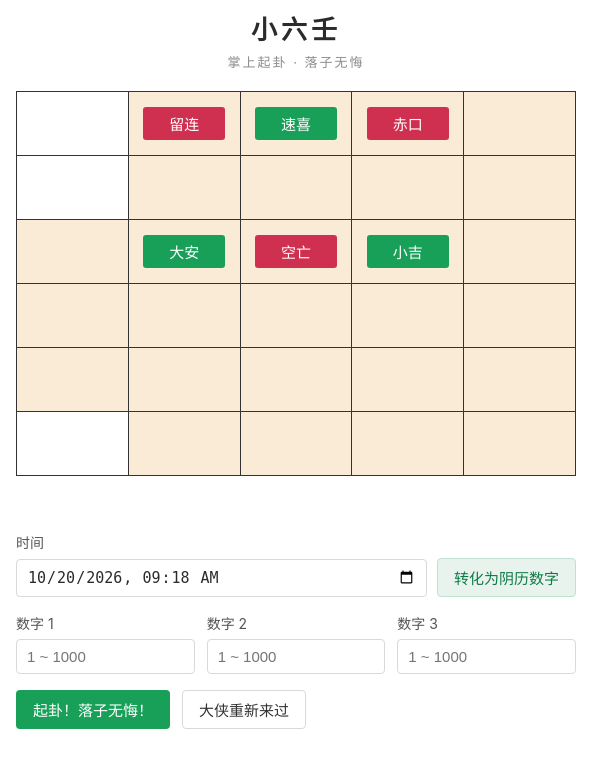
Test: XiaoLiuRen › 数字越界时给出提示且不起卦
Type "1" into the number field labelled "数字 1". click: (105, 656)
box: [16,639,195,674]
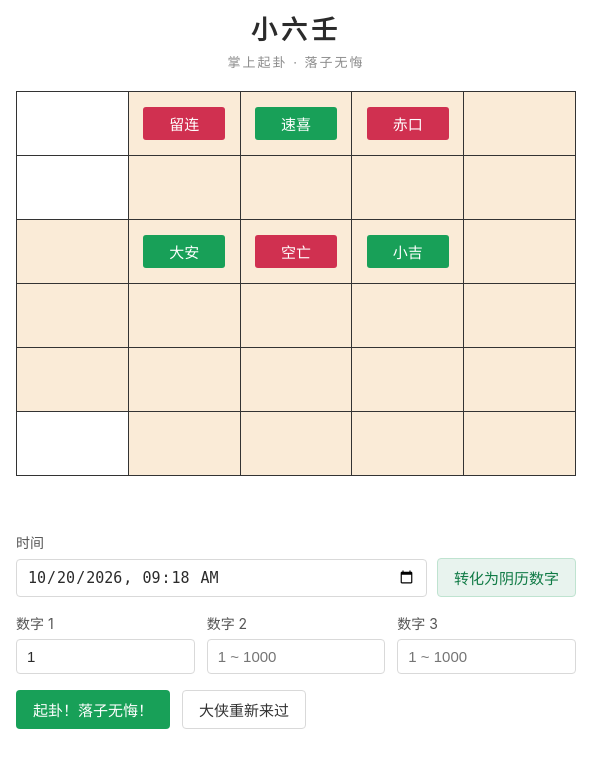
Type "2" into the number field labelled "数字 2". click: (296, 656)
box: [207,639,385,674]
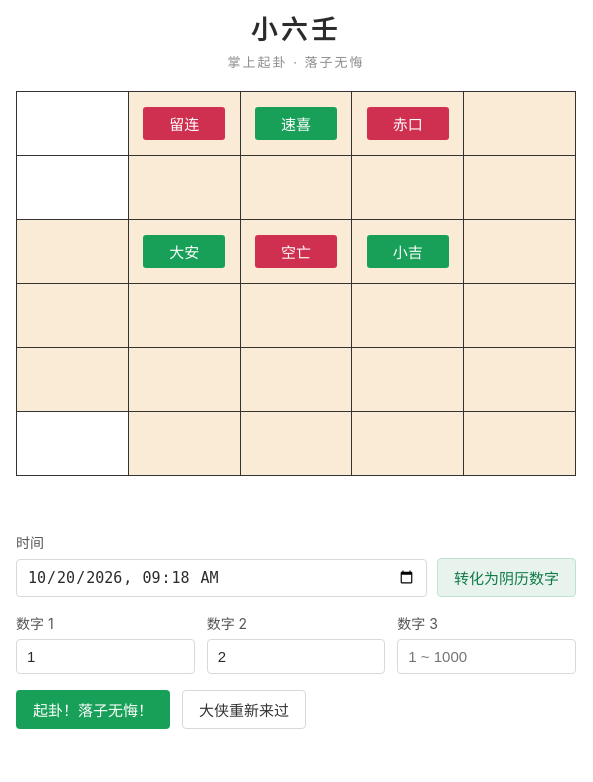
Type "1001" into the number field labelled "数字 3". click: (487, 656)
box: [397,639,576,674]
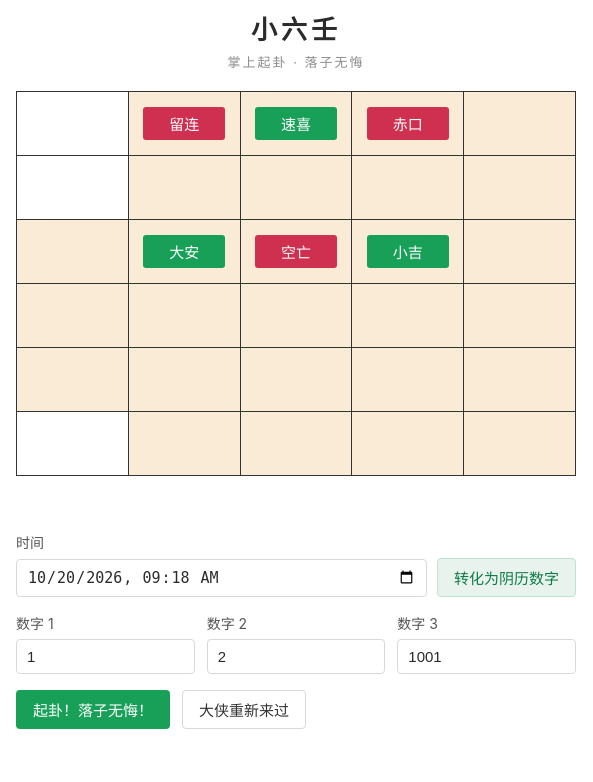
Submit the form, box [16,532,576,729]
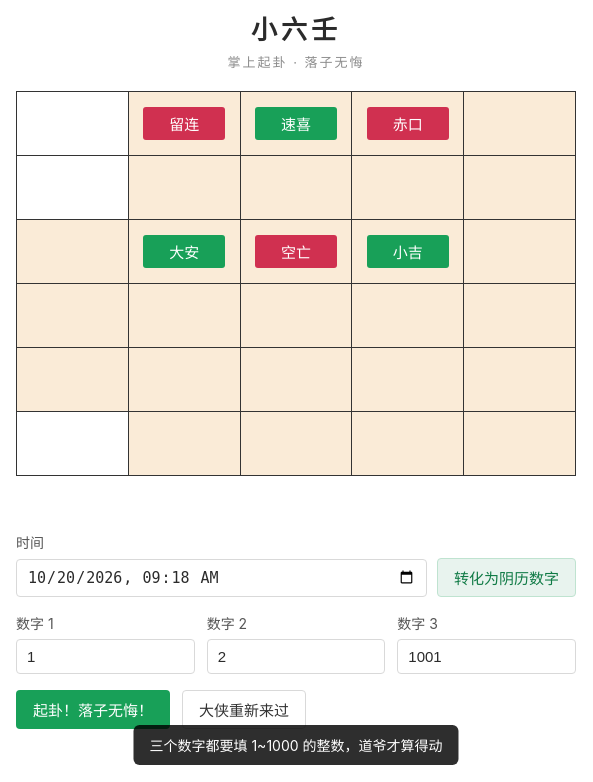
Now the message with class "toast" shows "1~1000", box [150,737,442,754]
